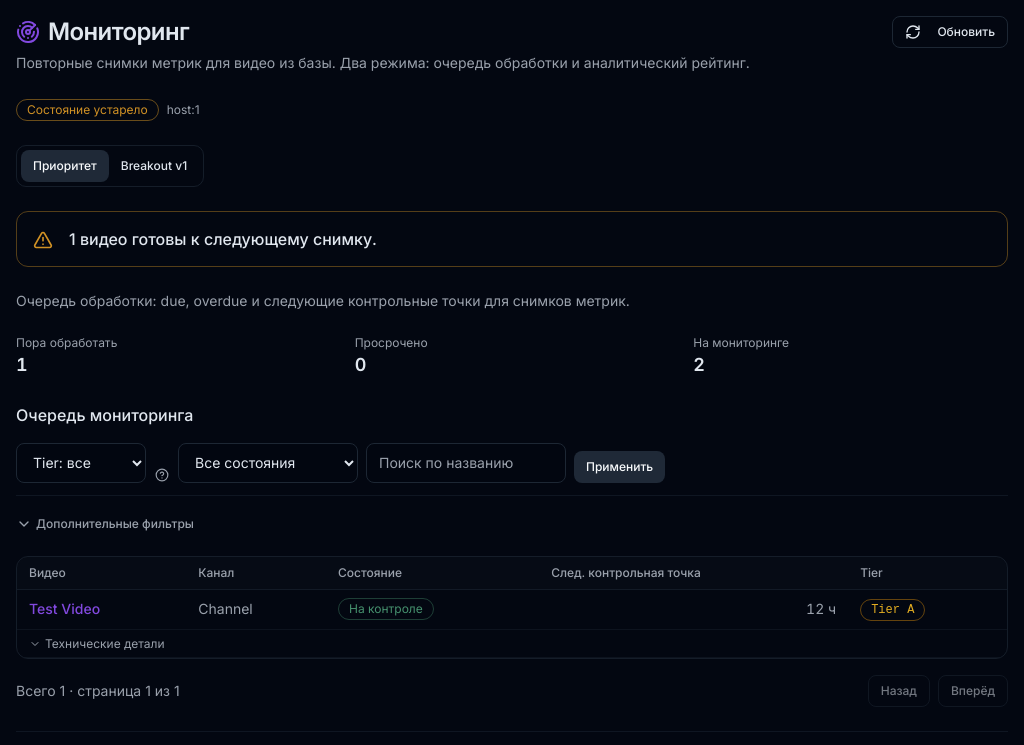
Test: MonitoringDashboard › hides video_id until row disclosure
The image size is (1024, 745).
Check: the element with test id "monitoring-priority-table" is shown, box x1=16 y1=556 x2=1008 y2=659
Check: the text "vid1" is not shown
Click the button "Технические детали" at (97, 644), box x1=29 y1=634 x2=164 y2=653
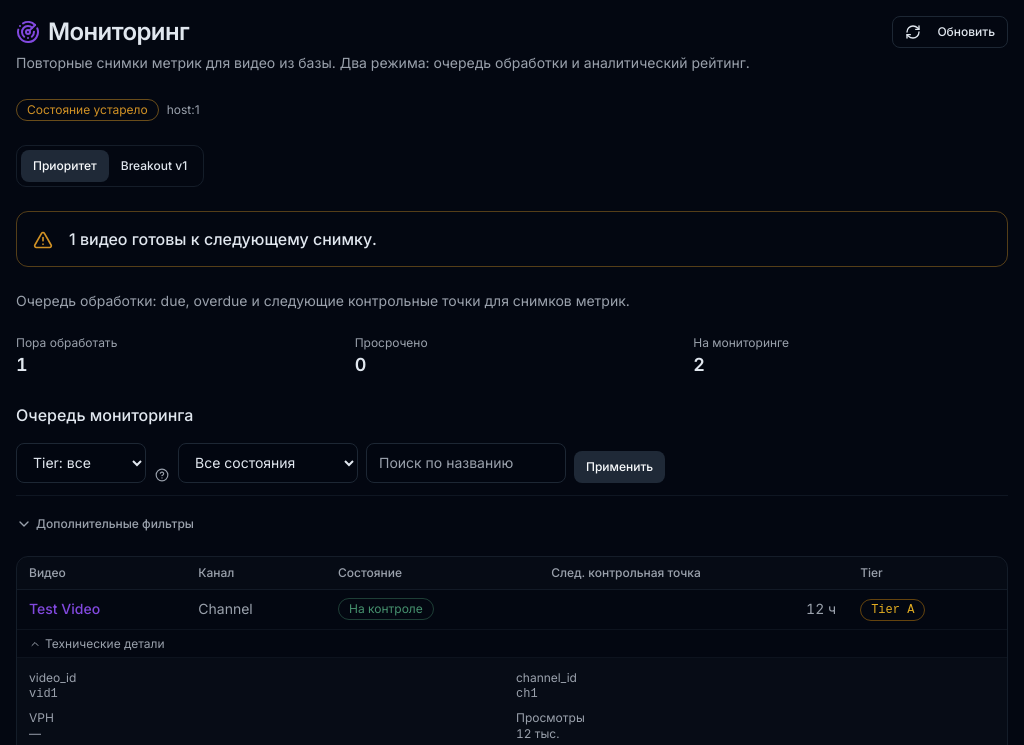
Check: the text "vid1" is shown, box x1=29 y1=687 x2=58 y2=701
